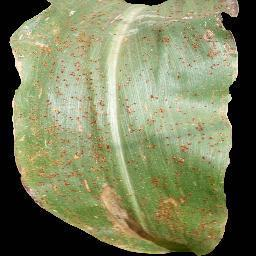Corn_Common_Rust: (109, 0, 241, 256), (6, 0, 109, 217), (64, 217, 109, 249)
